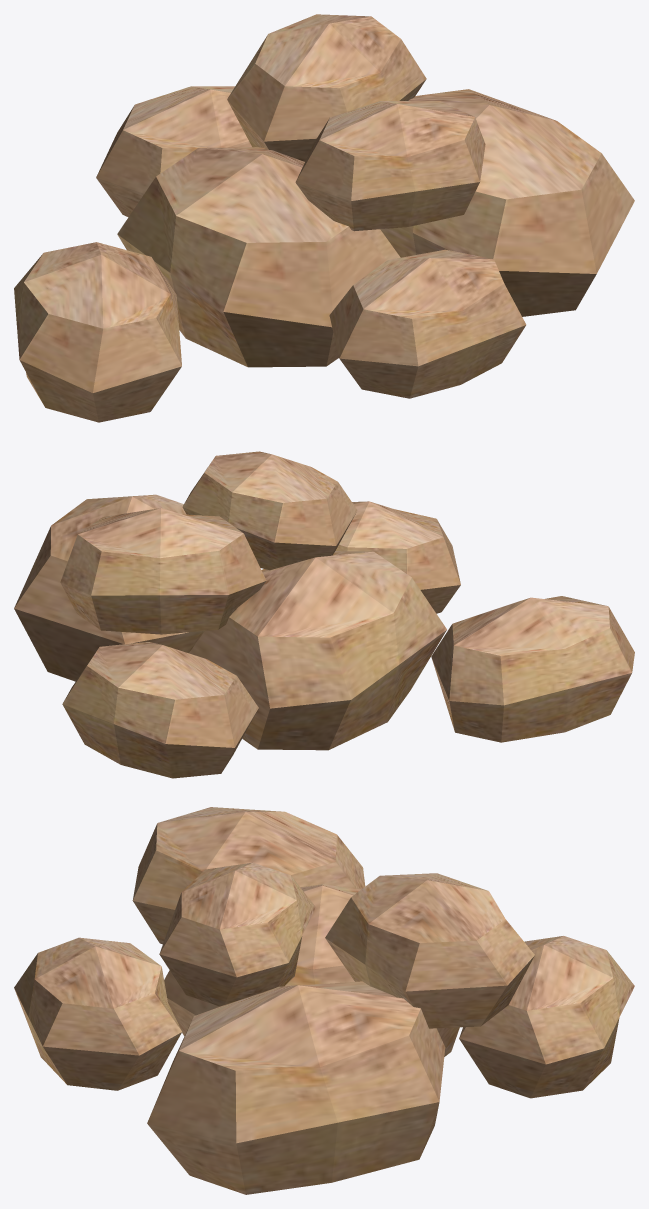
File: potato.fbx
3 views of the same model, one above another, from view 1: azimuth 30°, elevation 25°; view 2: azimuth 150°, elevation 25°; view 3: azimuth 270°, elevation 25° (orthographic). The views are drawn at different scales.
Parts seen in each view (by area): view 1: potato(0.5 kg fresh), potato(1 kg fresh); view 2: potato(0.5 kg fresh), potato(1 kg fresh); view 3: potato(1 kg fresh), potato(0.5 kg fresh).
Boxes of the visible parts, bbox=[...] form: potato(0.5 kg fresh): bbox=[14, 89, 634, 422]; potato(1 kg fresh): bbox=[96, 14, 526, 398]; potato(0.5 kg fresh): bbox=[14, 494, 634, 750]; potato(1 kg fresh): bbox=[60, 451, 460, 778]; potato(1 kg fresh): bbox=[14, 862, 634, 1098]; potato(0.5 kg fresh): bbox=[132, 807, 459, 1194].
Bounding box in the file's own units: 386 × 151 × 330.
Materials: 10 (8 with a texture image).
